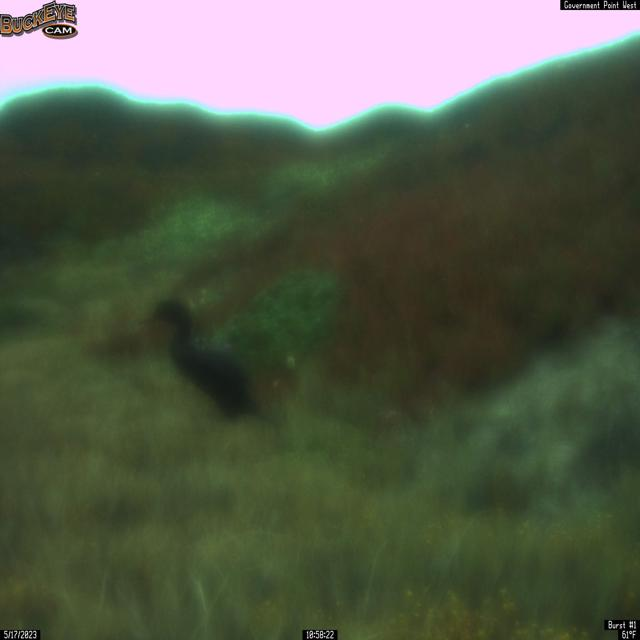bird: (138, 296, 276, 428)
